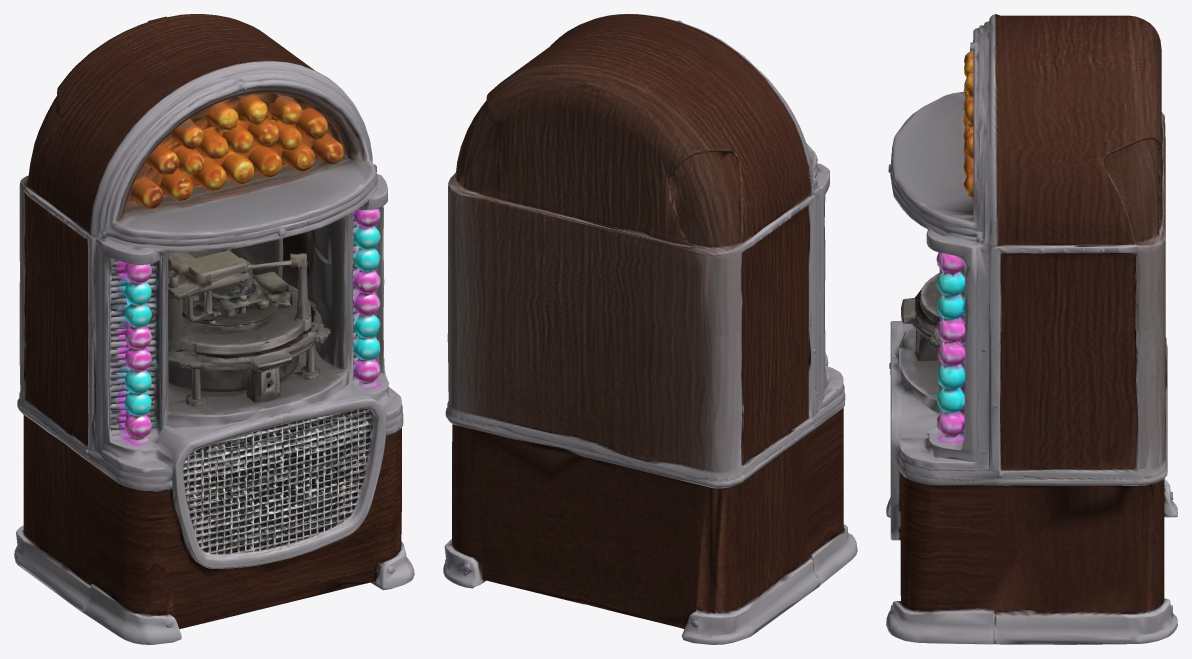
The model's file is jukebox.glb.
3 views of the same model, side by side, from view 1: azimuth 30°, elevation 25°; view 2: azimuth 150°, elevation 25°; view 3: azimuth 270°, elevation 25° (orthographic). The views are drawn at different scales.
Parts seen in each view (by area): view 1: tripo_node_a003654a-27bb-4e0b-8d35-11bc43102935; view 2: tripo_node_a003654a-27bb-4e0b-8d35-11bc43102935; view 3: tripo_node_a003654a-27bb-4e0b-8d35-11bc43102935.
Part boxes in pixels (box(x1,y1,x2,y2)): tripo_node_a003654a-27bb-4e0b-8d35-11bc43102935: box(14, 14, 414, 644); tripo_node_a003654a-27bb-4e0b-8d35-11bc43102935: box(443, 14, 857, 644); tripo_node_a003654a-27bb-4e0b-8d35-11bc43102935: box(886, 14, 1177, 644).
Bounding box in the file's own units: 0.5903 × 0.9797 × 0.4809.
1 material, 1 textured.
